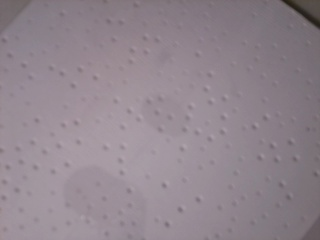Water_detected: (70, 171, 149, 238), (135, 92, 192, 146)
